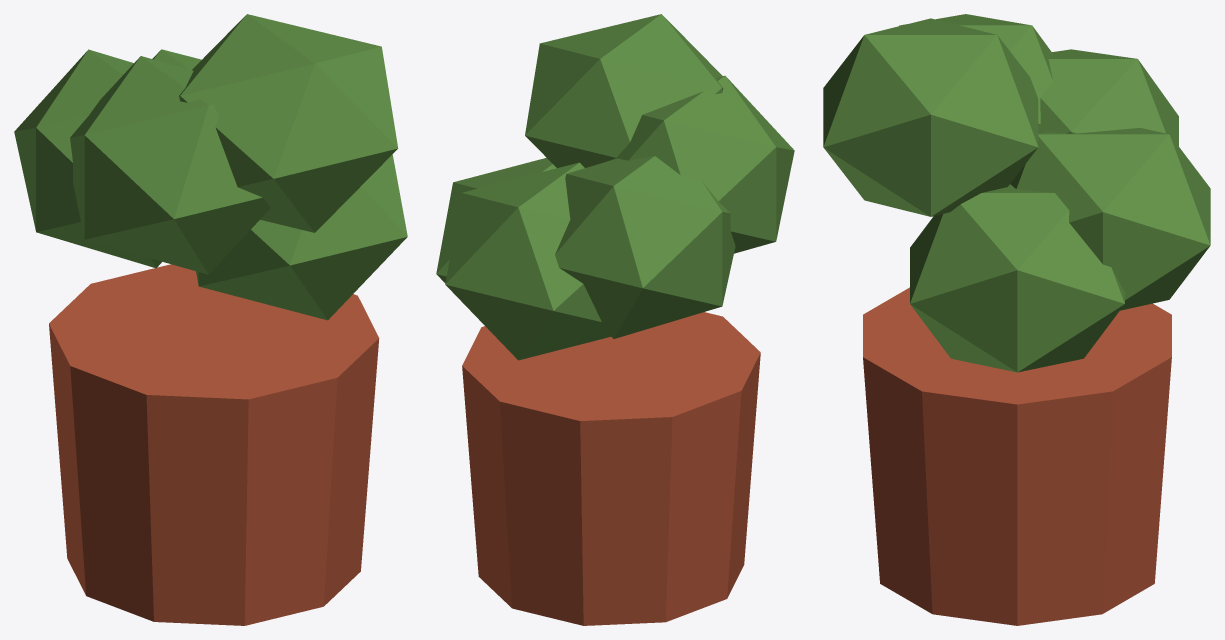
Rendered from Plant_Small.glb.
The picture shows the model from 3 angles, left to right: view 1: azimuth 30°, elevation 25°; view 2: azimuth 150°, elevation 25°; view 3: azimuth 270°, elevation 25°; orthographic projection. The views are drawn at different scales.
Parts seen in each view (by area): view 1: Plant_Small; view 2: Plant_Small; view 3: Plant_Small.
Part boxes in pixels (x1,y1,x2,y2): Plant_Small: (14,14,407,625); Plant_Small: (436,14,794,625); Plant_Small: (823,14,1210,625).
Size of the model in its own units: 0.2071 by 0.3306 by 0.2145.
Materials: 1 (1 with a texture image).
